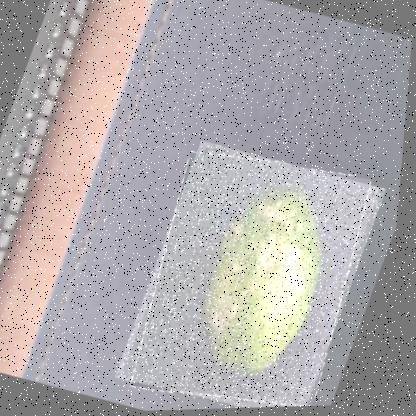orange_rotten: (118, 137, 395, 412)
